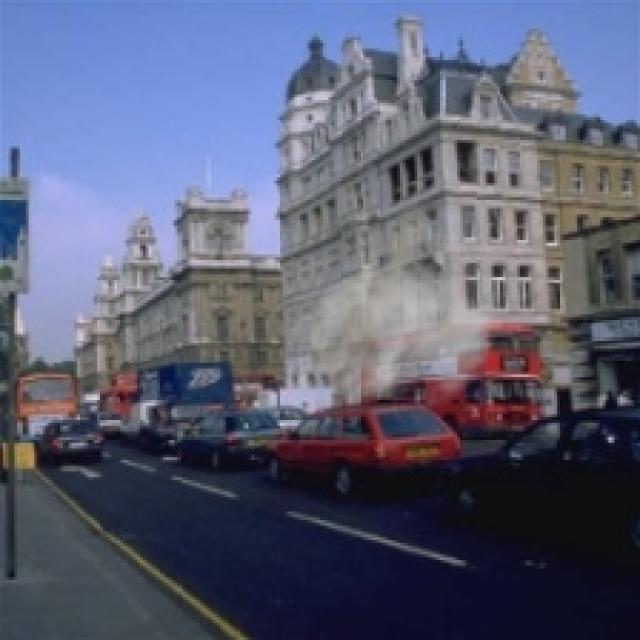smoke: (286, 194, 506, 423)
